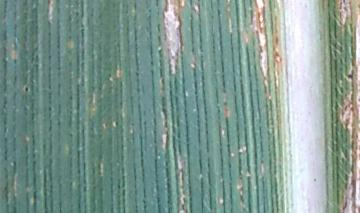tarspot: (344, 68, 356, 85), (21, 82, 31, 95)
